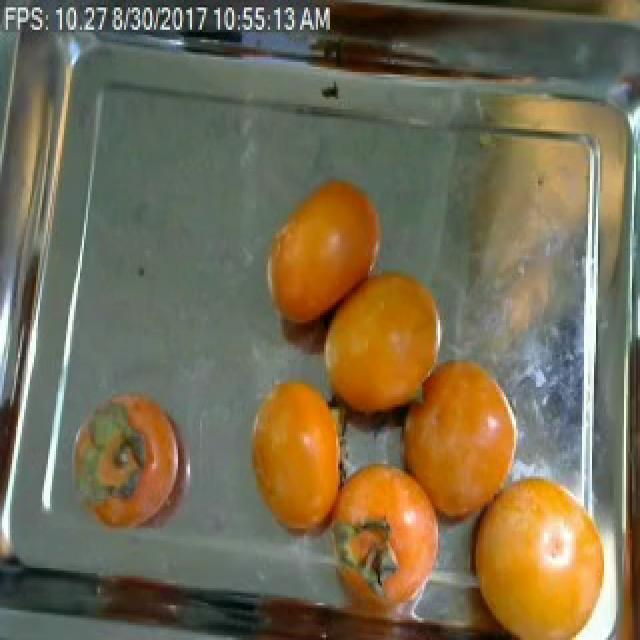Fruit: (382, 340, 532, 536), (450, 456, 606, 640), (252, 164, 400, 340), (310, 253, 448, 439), (60, 377, 206, 546), (234, 362, 346, 556)
